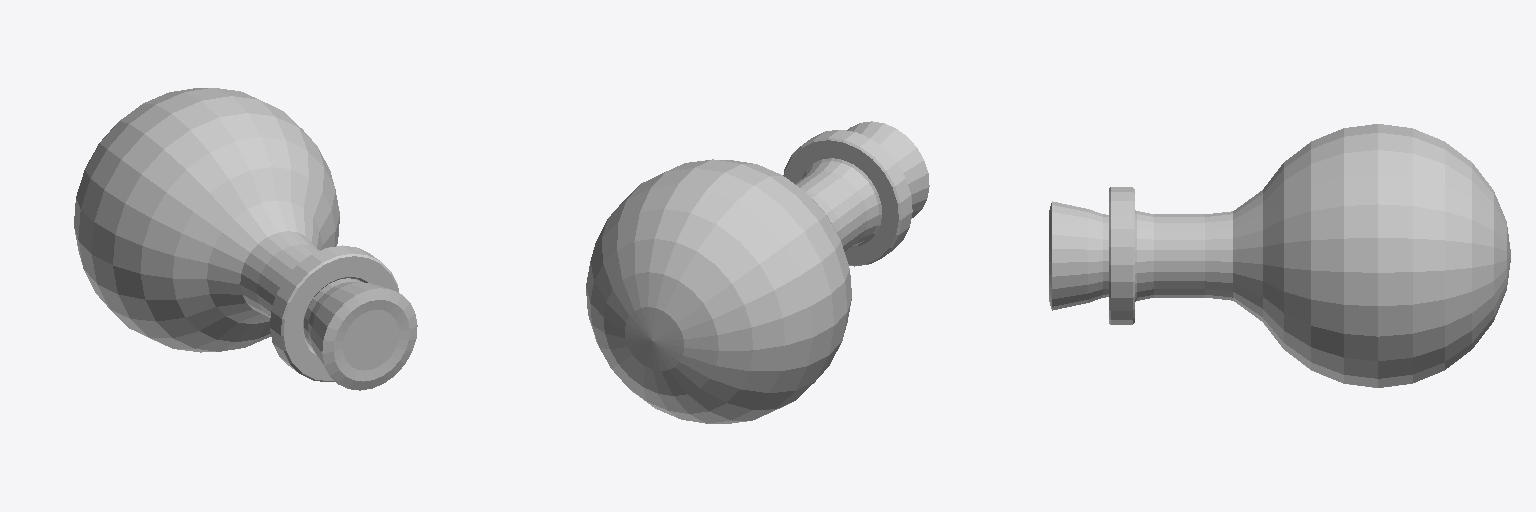
File: sphere_potion_gel.obj
3 renders of one model, left to right at view 1: azimuth 30°, elevation 25°; view 2: azimuth 150°, elevation 25°; view 3: azimuth 270°, elevation 25°, orthographic.
Visible parts, largest first — view 1: obj1; view 2: obj1; view 3: obj1.
Part boxes in pixels (x1,y1,x2,y2): obj1: (74,88,417,390); obj1: (586,121,929,423); obj1: (1049,124,1510,387).
Bounding box in the file's own units: 2.33 × 2.33 × 4.05.